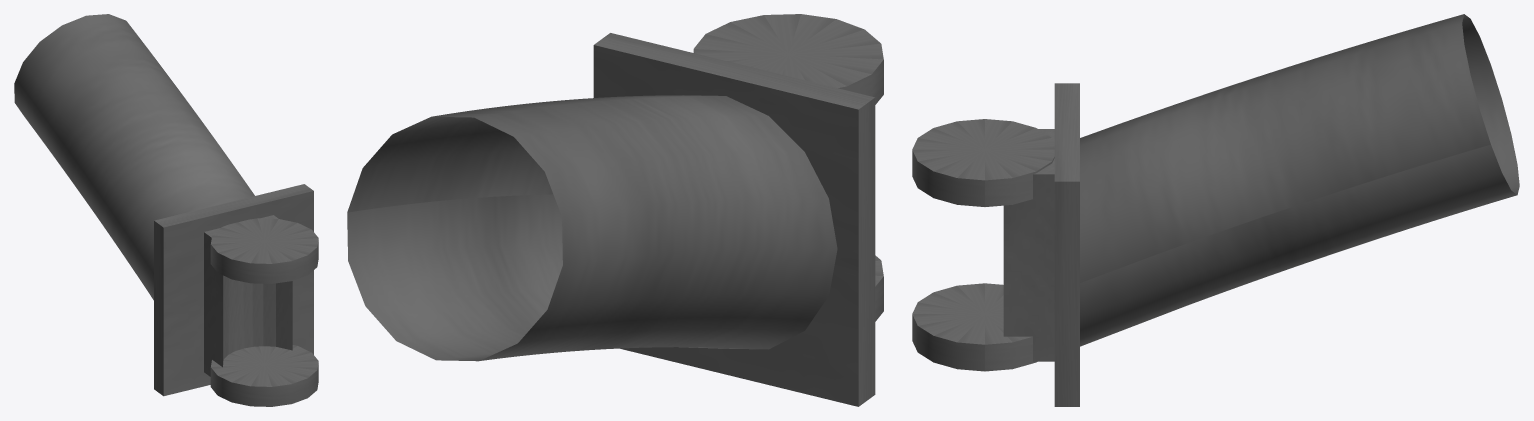
Rendered from mastarmcurve_5x1_c0_ped.obj.
The picture shows the model from 3 angles, left to right: view 1: azimuth 30°, elevation 25°; view 2: azimuth 150°, elevation 25°; view 3: azimuth 270°, elevation 25°; orthographic projection. The views are drawn at different scales.
Parts seen in each view (by area): view 1: mastarm_5x1_c0_ped; view 2: mastarm_5x1_c0_ped; view 3: mastarm_5x1_c0_ped.
Boxes of the visible parts, <box> form: mastarm_5x1_c0_ped: <box>14,14,318,406</box>; mastarm_5x1_c0_ped: <box>347,14,883,406</box>; mastarm_5x1_c0_ped: <box>912,14,1519,406</box>.
Size of the model in its own units: 0.6875 by 1.1 by 1.8.
